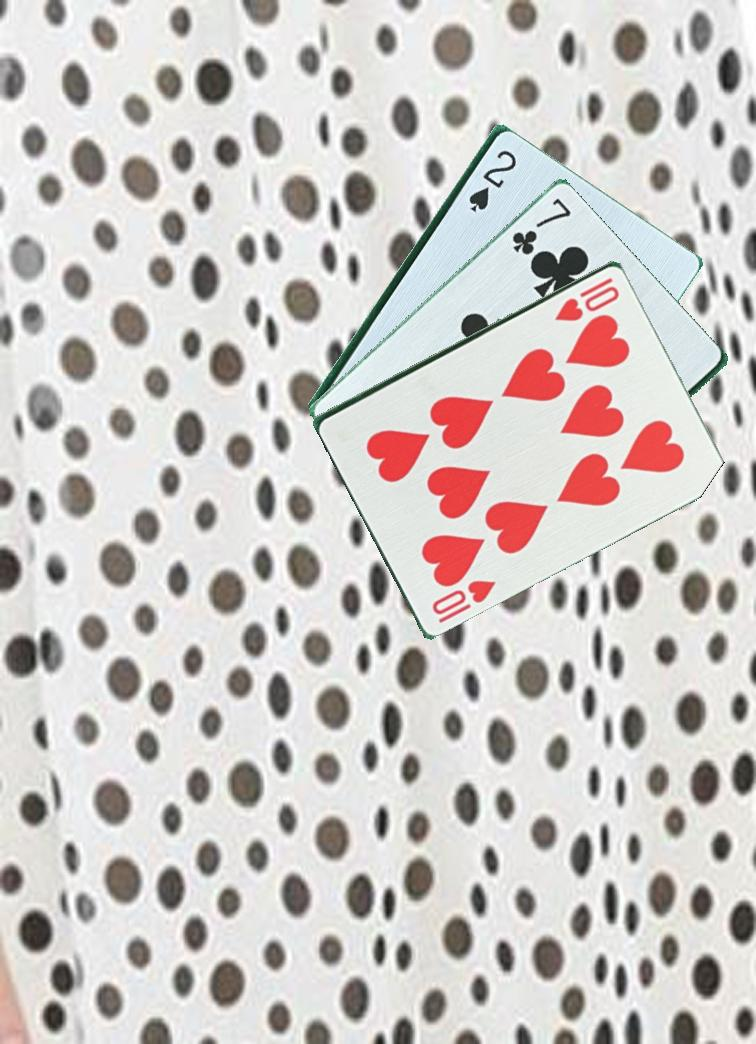2s: (464, 144, 524, 215)
7c: (508, 194, 575, 265)
th: (551, 273, 623, 324), (428, 575, 500, 626)
